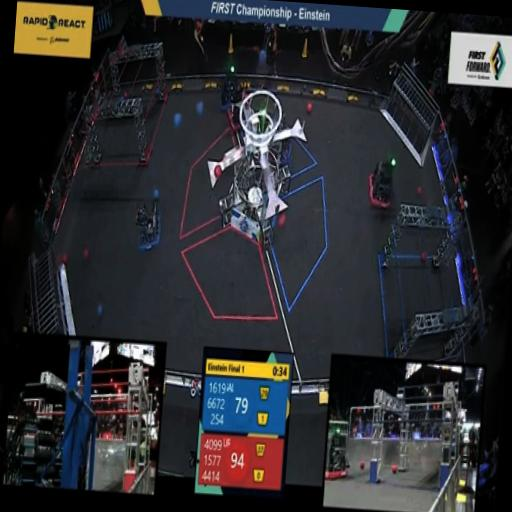robot: (364, 147, 406, 215), (128, 194, 171, 256), (216, 52, 245, 112), (223, 84, 255, 138)
